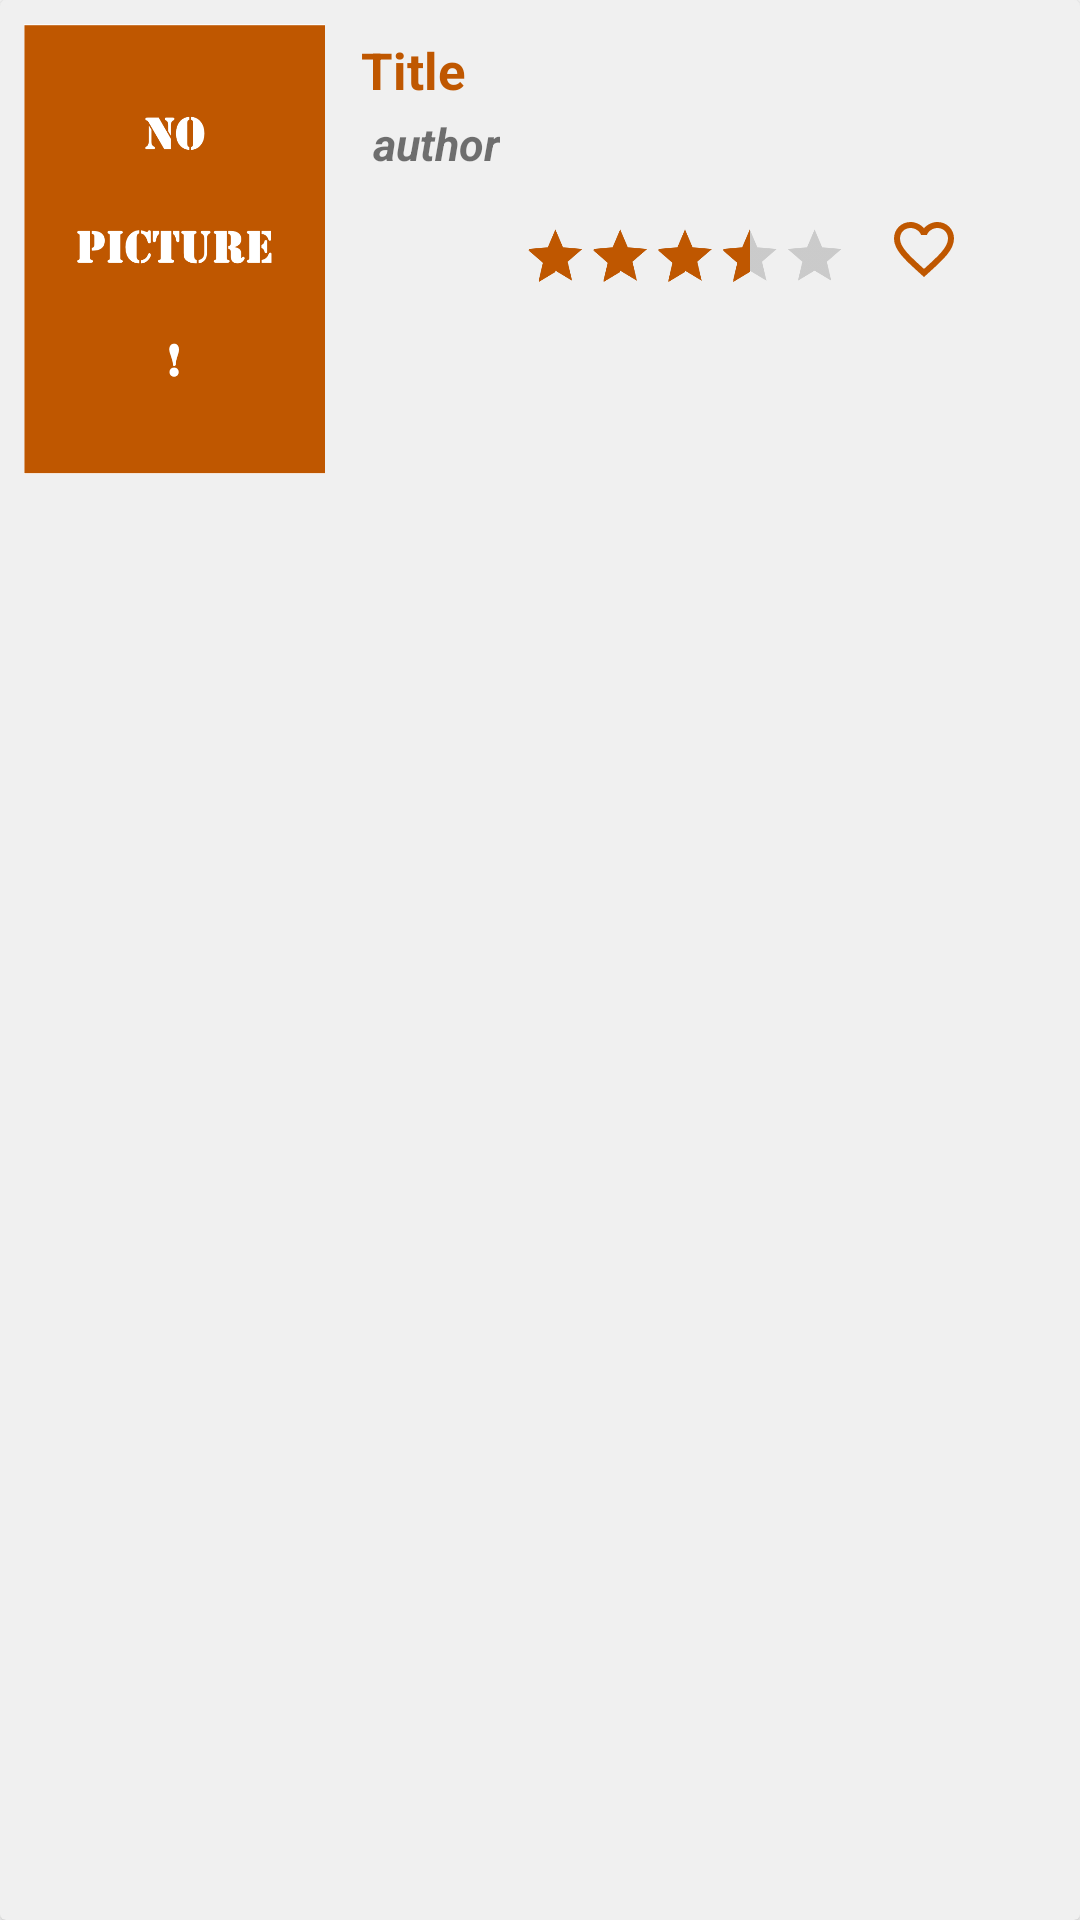

Named icons in this screenshot (1080 x 1920) and their bounding boxes, (x1, y1, x2, y2):
favorite border: (894, 222, 954, 277)
